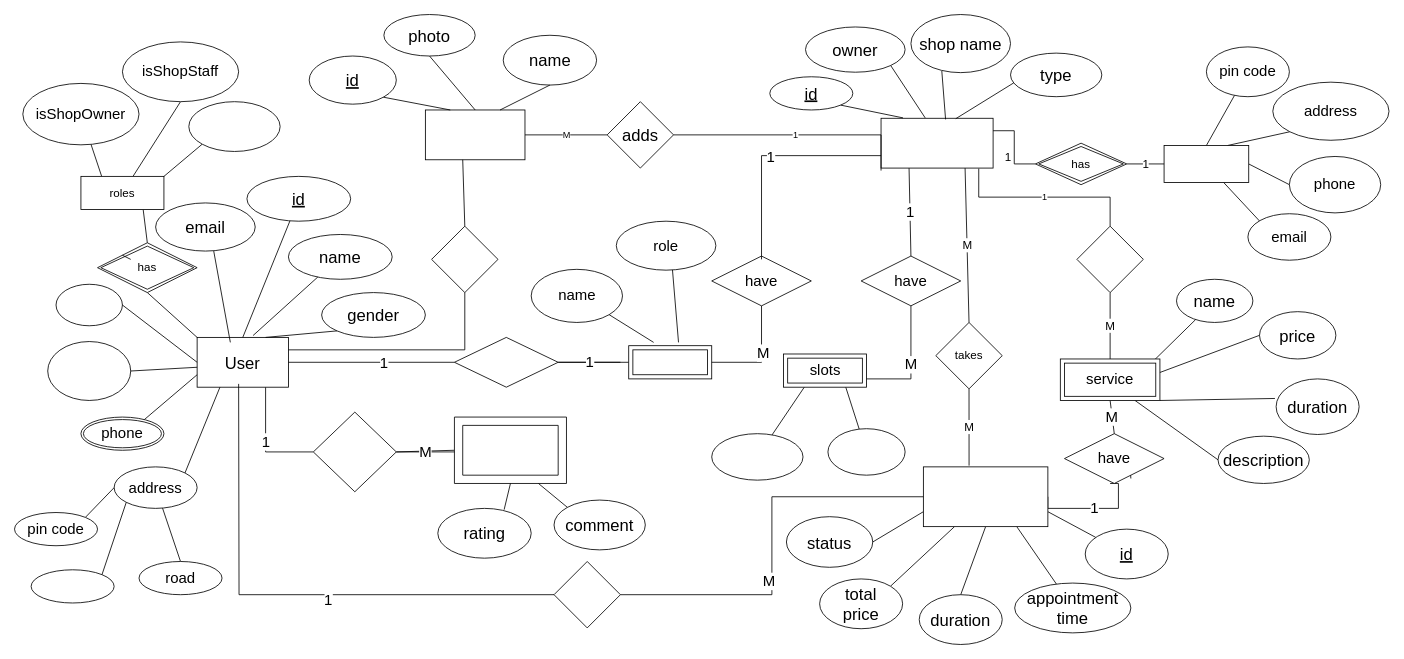
Some shapes in this 1404 by 659 pixel diagram are drawn without their labels. Each missing label, with the centre of its shape:
access: pixel 464 259
Appointments: pixel 985 496
books: pixel 586 594
can be: pixel 506 362
city: pixel 72 586
contact: pixel 1206 163
date: pixel 866 451
DOB: pixel 88 304
gives & views: pixel 354 451
isAdmin: pixel 234 126
member: pixel 670 362
offers: pixel 1109 259
password: pixel 89 370
Review: pixel 510 449
Shop: pixel 936 142
slot: pixel 757 456
Tags: pixel 475 134
